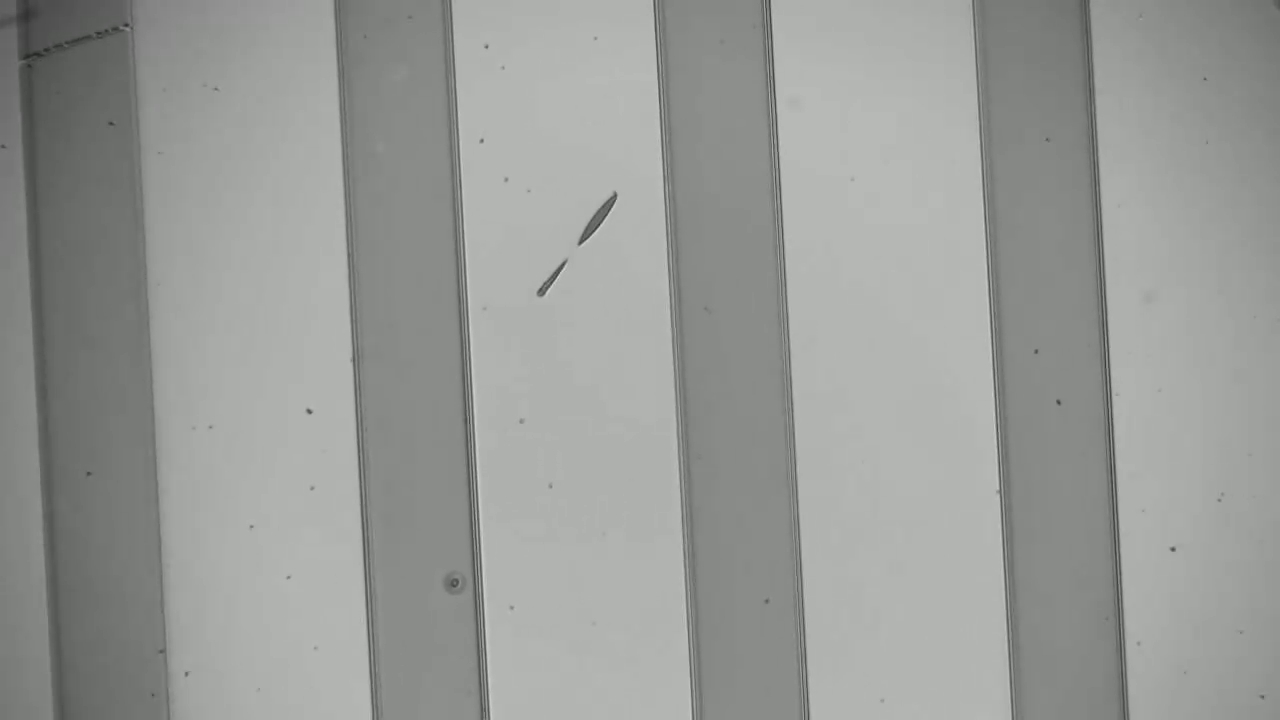scratch: (27, 19, 123, 59)
